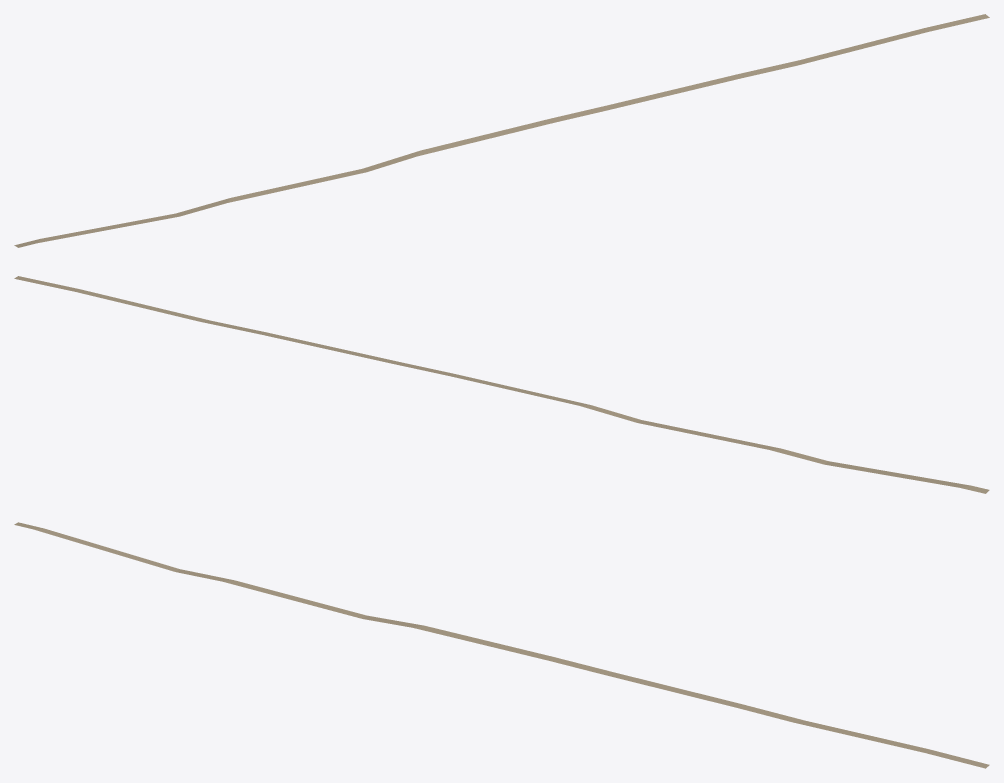
Rendered from farm_27_18_track.glb.
3 views of the same model, one above another, from view 1: azimuth 30°, elevation 25°; view 2: azimuth 150°, elevation 25°; view 3: azimuth 330°, elevation 25° (orthographic).
Visible parts, largest first — view 1: geometry_0; view 2: geometry_0; view 3: geometry_0.
Boxes of the visible parts, x1=… form: geometry_0: x1=14, y1=14, x2=989, y2=247; geometry_0: x1=14, y1=276, x2=989, y2=493; geometry_0: x1=14, y1=522, x2=989, y2=768.
Size of the model in its own units: 415 by 6.16 by 9.56.
